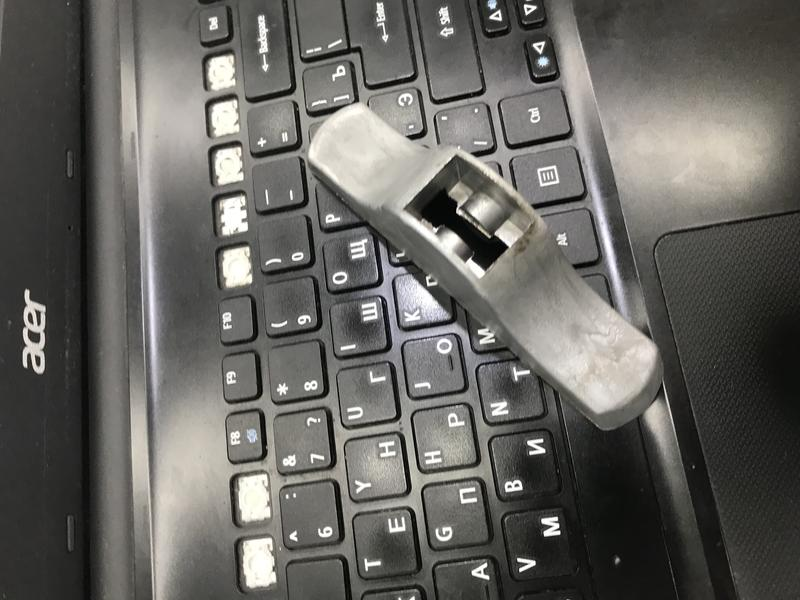zapchast: (287, 92, 679, 444)
